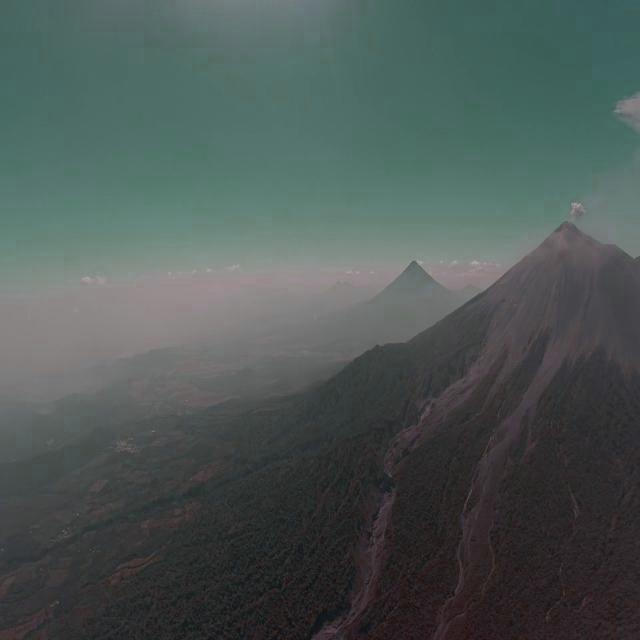Plume: (611, 89, 640, 156), (569, 198, 584, 222)
Summit: (548, 220, 586, 242)
